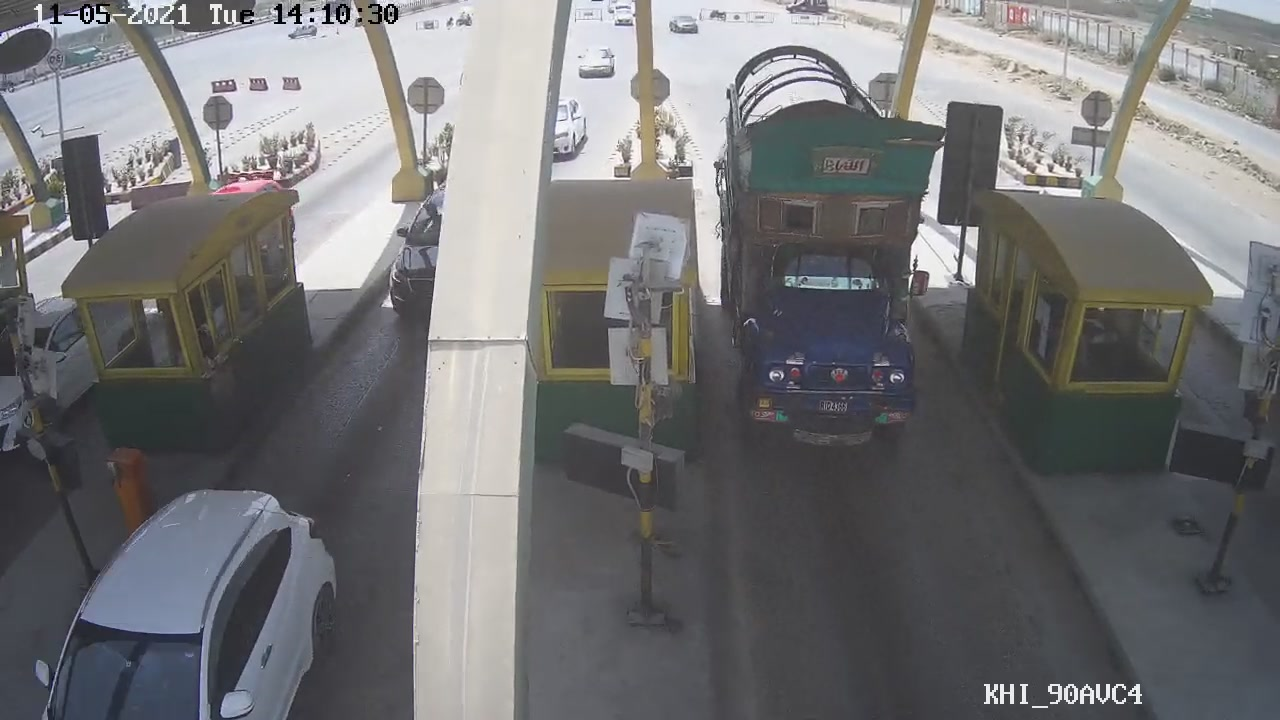F5: (708, 62, 960, 451)
